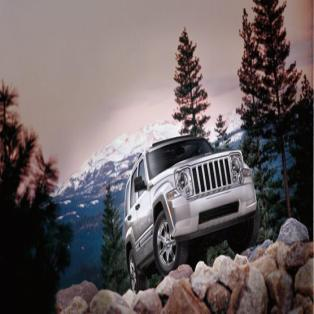Auto: (124, 136, 259, 294)
